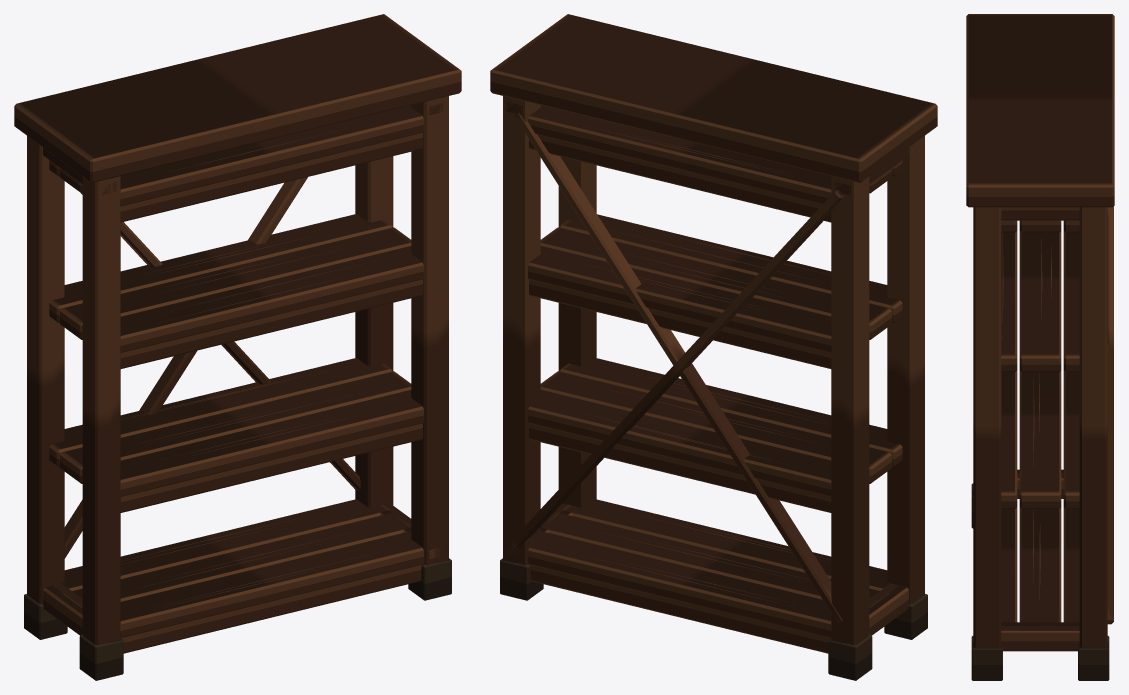
Rendered from Shelf_Tall.fbx.
The picture shows the model from 3 angles, left to right: view 1: azimuth 30°, elevation 25°; view 2: azimuth 150°, elevation 25°; view 3: azimuth 270°, elevation 25°; orthographic projection. The views are drawn at different scales.
Visible parts, largest first — view 1: Shelf_Tall; view 2: Shelf_Tall; view 3: Shelf_Tall.
Part boxes in pixels (x1=…): Shelf_Tall: x1=14, y1=14, x2=461, y2=680; Shelf_Tall: x1=490, y1=14, x2=937, y2=680; Shelf_Tall: x1=966, y1=14, x2=1114, y2=680.
Size of the model in its own units: 1.46 by 1.97 by 0.53.
Materials: 2 (2 with a texture image).
